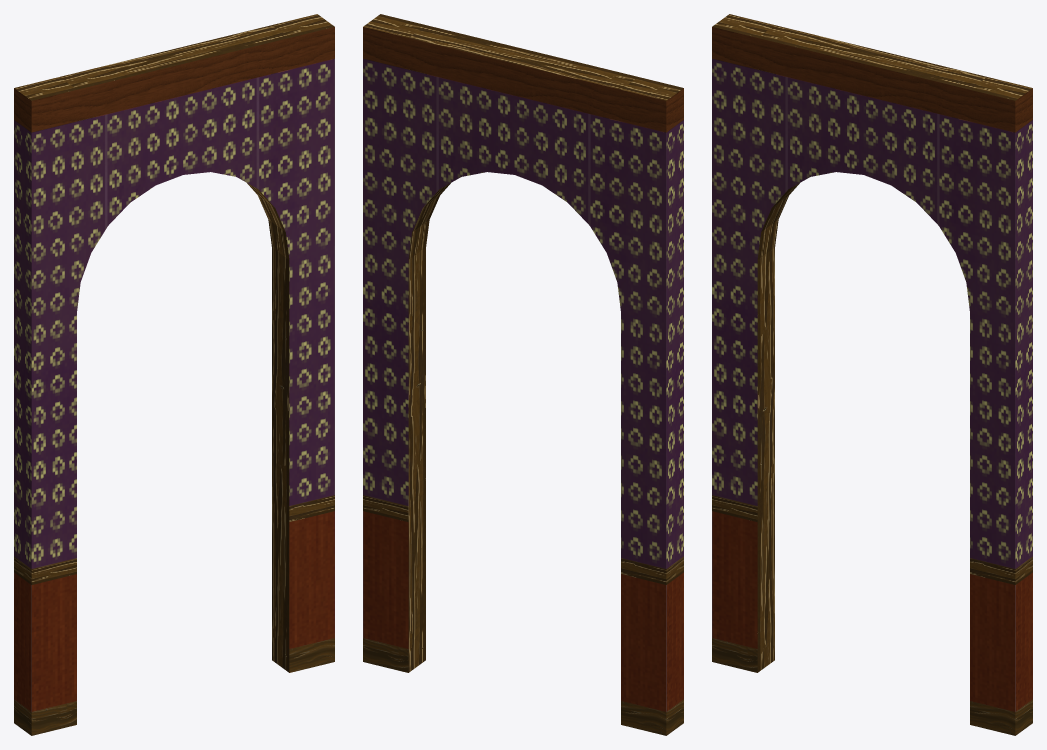
Rendered from SM_Wall_Door_Plaster.fbx.
3 renders of one model, left to right at view 1: azimuth 30°, elevation 25°; view 2: azimuth 150°, elevation 25°; view 3: azimuth 330°, elevation 25°, orthographic.
Visible parts, largest first — view 1: SM_Wall_Door_Plaster; view 2: SM_Wall_Door_Plaster; view 3: SM_Wall_Door_Plaster.
Boxes of the visible parts, x1=… form: SM_Wall_Door_Plaster: x1=14, y1=14, x2=334, y2=735; SM_Wall_Door_Plaster: x1=363, y1=14, x2=683, y2=735; SM_Wall_Door_Plaster: x1=712, y1=14, x2=1032, y2=735.
Size of the model in its own units: 2 by 4 by 0.2.
